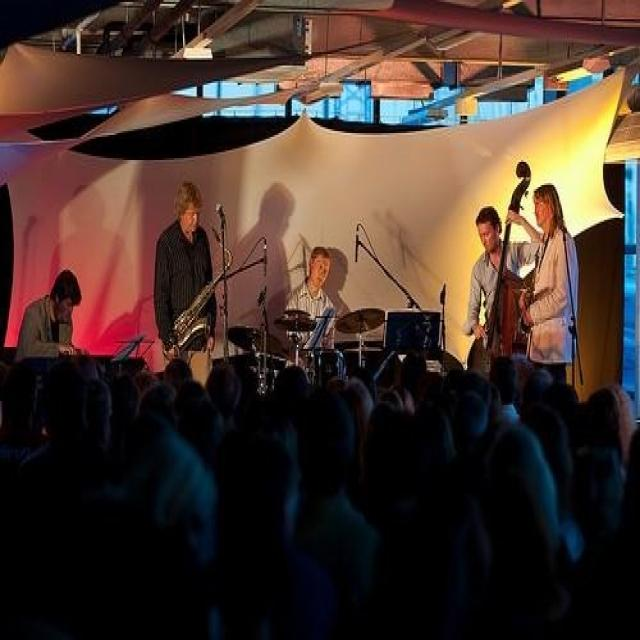saxophone: (160, 227, 236, 361)
